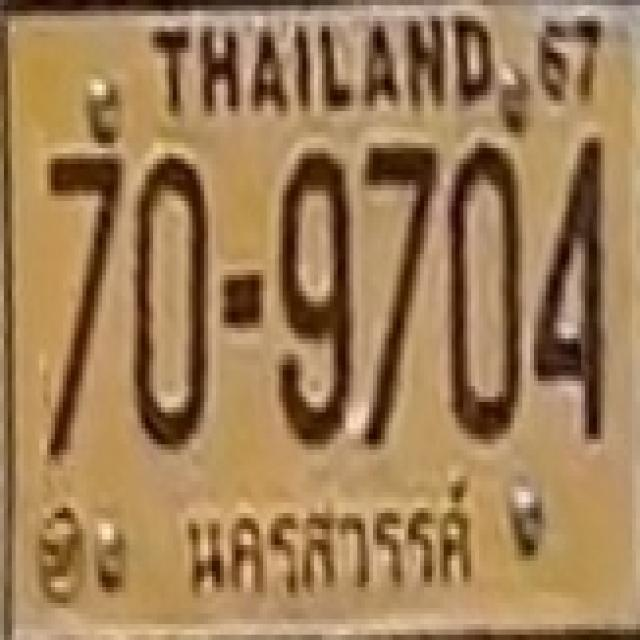0: (130, 153, 208, 444), (446, 140, 520, 437)
4: (530, 135, 601, 436)
7: (42, 151, 120, 460), (361, 140, 436, 431)
9: (275, 148, 349, 439)
NSN: (176, 467, 482, 616)
